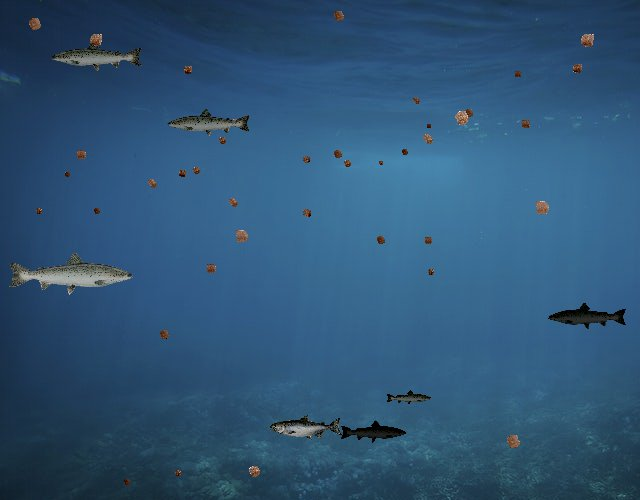Fish: (6, 250, 135, 296), (51, 40, 145, 74), (166, 107, 252, 138), (547, 301, 628, 330), (270, 414, 343, 440), (339, 420, 407, 444), (385, 390, 432, 407)
Pellet: (573, 27, 601, 55), (242, 459, 267, 484), (459, 104, 478, 123), (339, 156, 356, 173), (170, 466, 185, 481), (423, 265, 438, 279), (120, 475, 134, 489), (32, 204, 46, 218)
